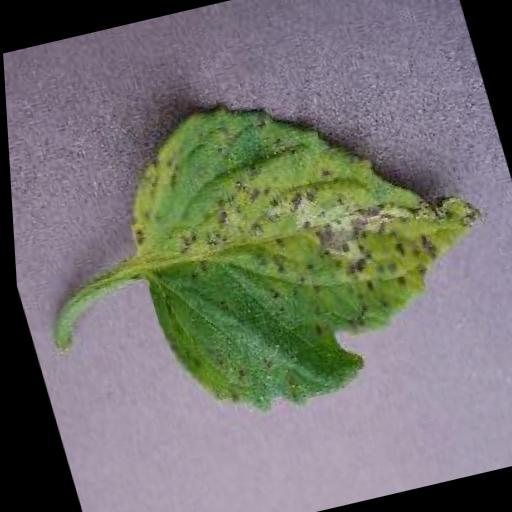Septoria: (94, 55, 512, 431)
